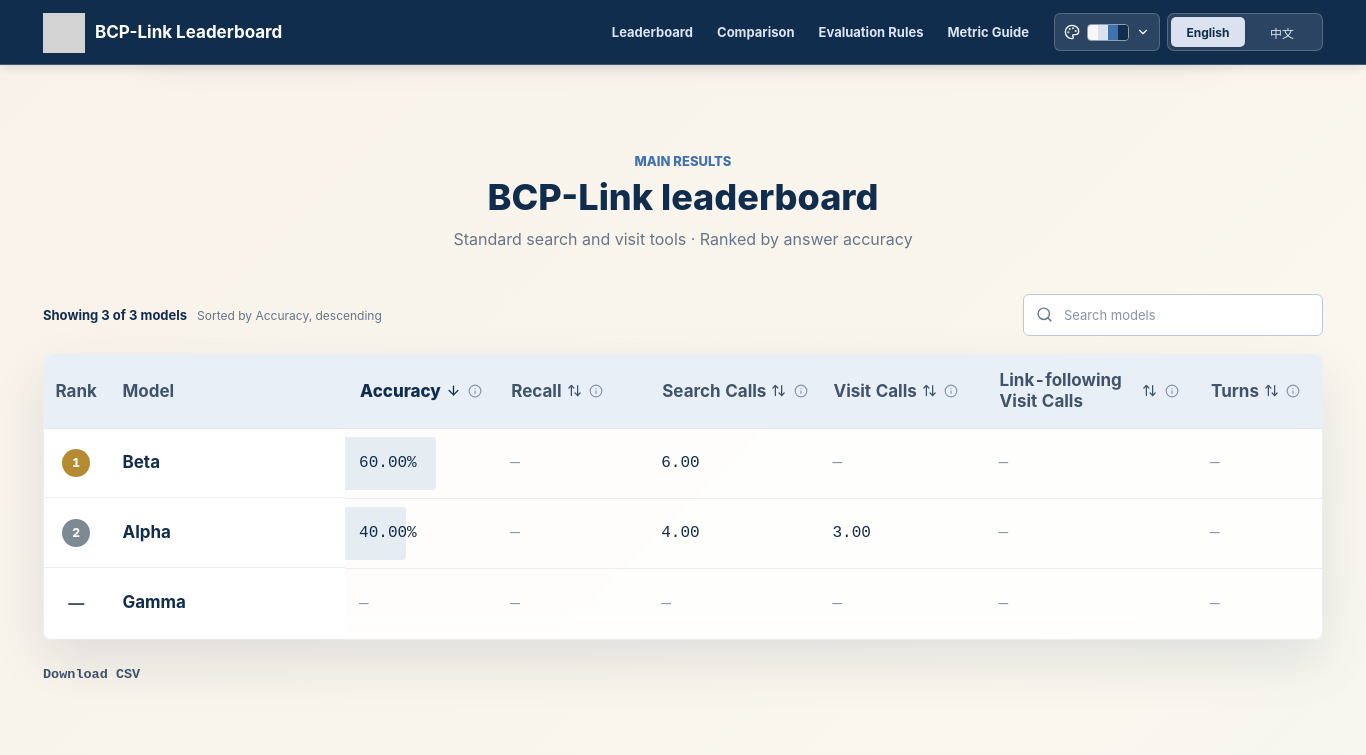
Test: LeaderboardApp › filters by model name and sorts numeric columns
(page scrolled)
Click the button with aria-label "Sort by Visit Calls" at (885, 391), box [832,371,938,411]
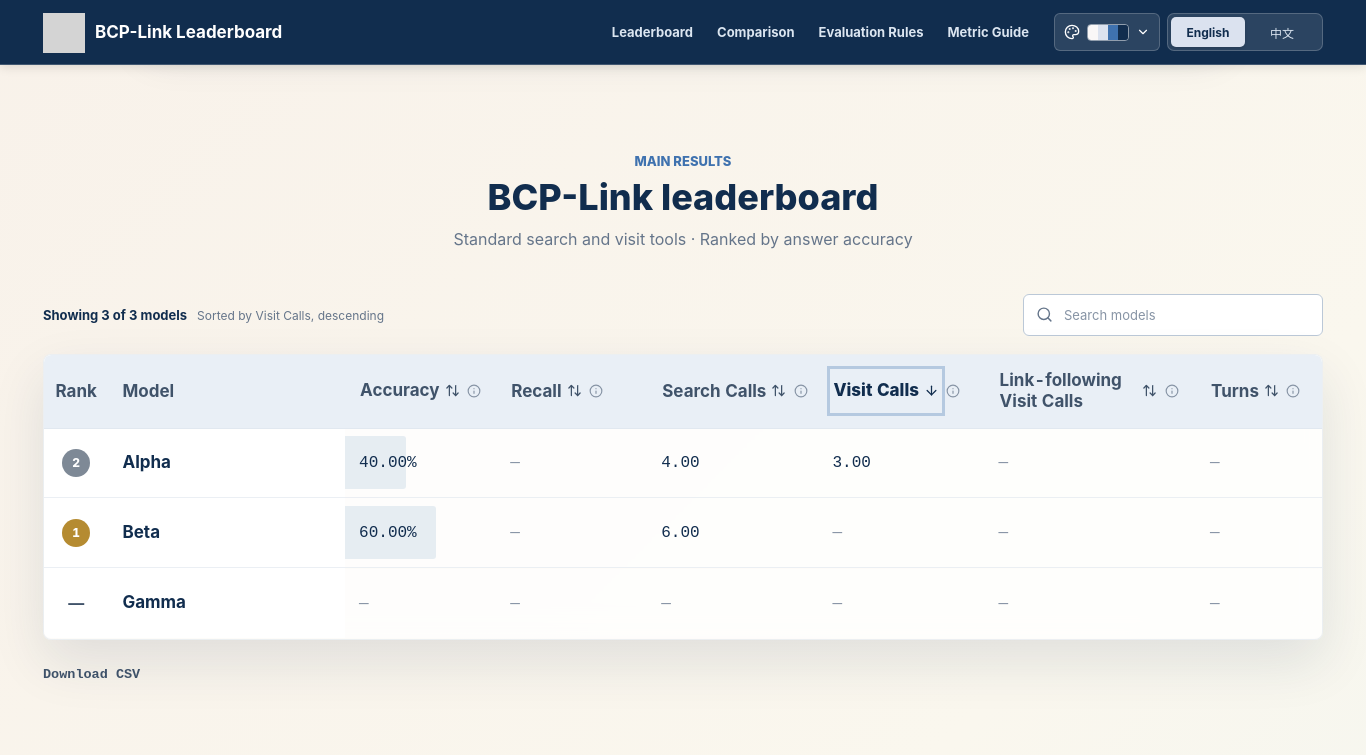
Type "gamma" into the search field labelled "Search models" at (1173, 315), box [1023,294,1323,336]
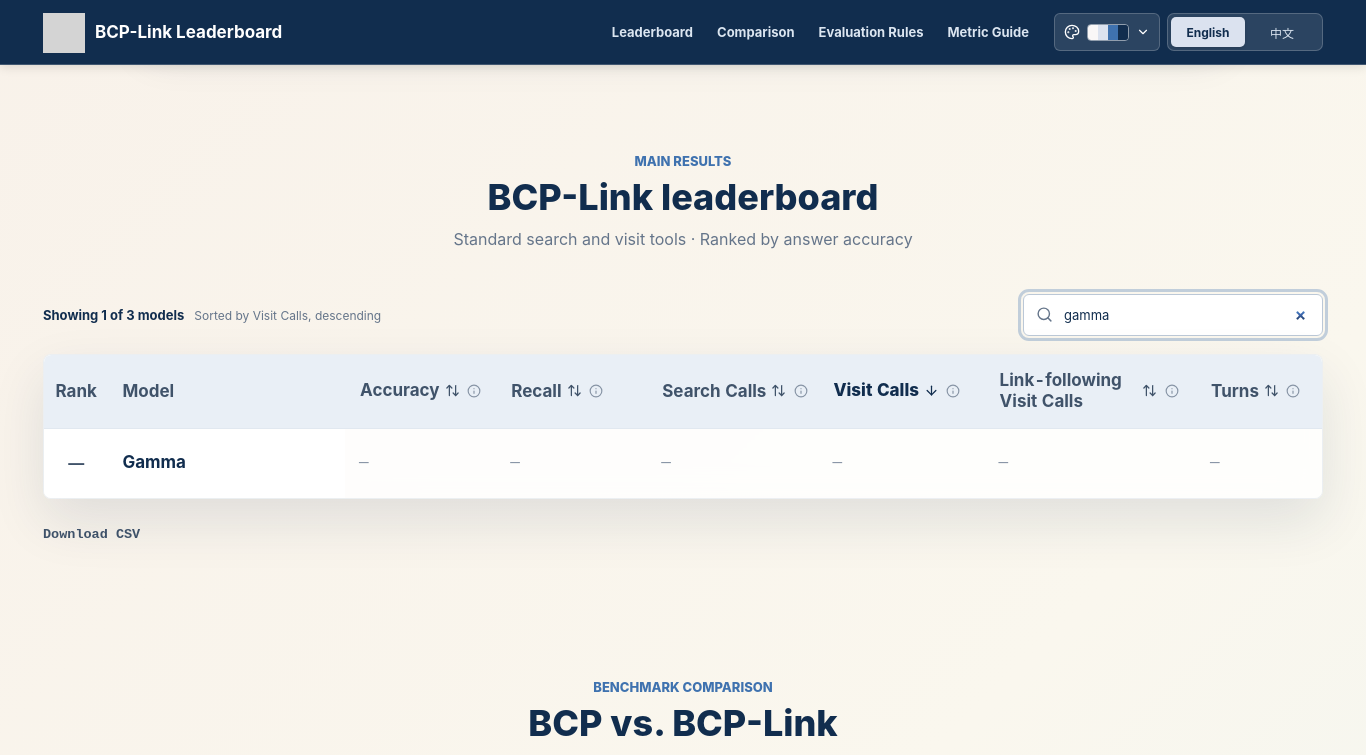
Result: the text "Showing 1 of 3 models" is shown at [43,307,184,323]
